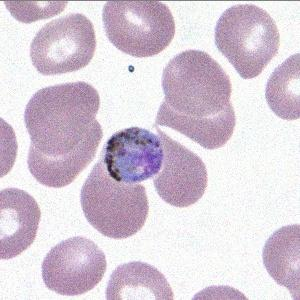Infected: (101, 128, 163, 185)
Uninfected: (24, 80, 99, 157), (80, 156, 148, 239), (26, 121, 103, 187), (214, 3, 278, 81), (161, 50, 233, 117), (154, 91, 235, 149), (153, 126, 209, 207), (30, 14, 96, 77), (102, 0, 174, 57), (39, 236, 105, 295)
